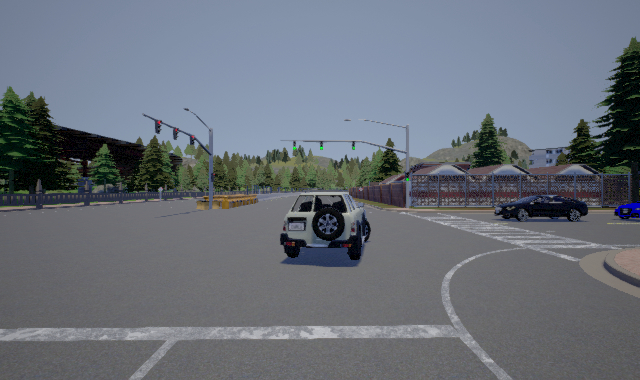traffic_light: (155, 120, 162, 134), (173, 127, 179, 140), (190, 135, 195, 145), (211, 173, 216, 182), (405, 172, 409, 181), (352, 141, 355, 150), (320, 141, 323, 150), (293, 141, 296, 150)
vehicle: (280, 189, 371, 260), (494, 195, 589, 222), (614, 201, 640, 219)
